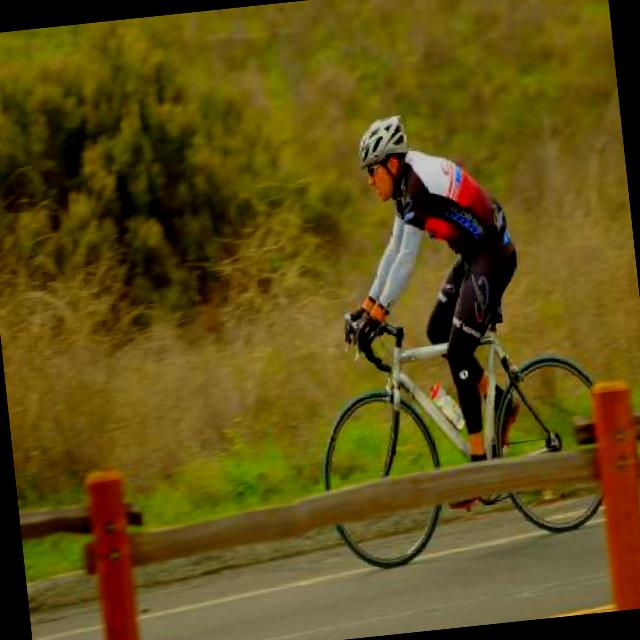Person: (330, 128, 561, 468)
